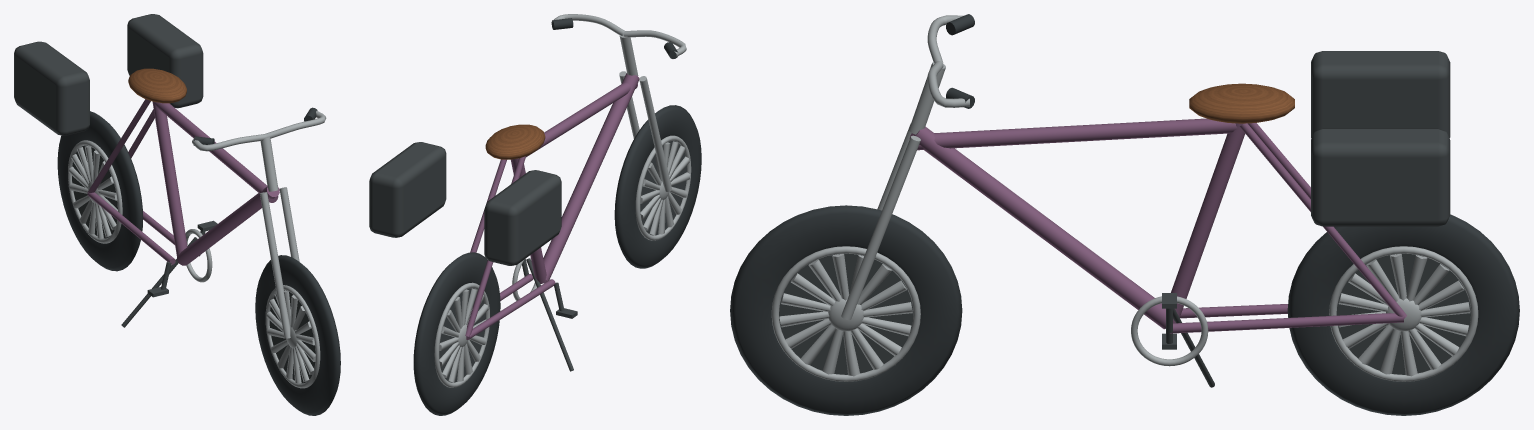
File: veh_bike_cargo-434548e76102.glb
3 renders of one model, left to right at view 1: azimuth 30°, elevation 25°; view 2: azimuth 150°, elevation 25°; view 3: azimuth 270°, elevation 25°, orthographic. The views are drawn at different scales.
Visible parts, largest first — view 1: surface_graphite (×3), surface_rubber (×2), surface_steel (×4), surface_#805d7b, surface_walnut; view 2: surface_graphite (×3), surface_rubber (×3), surface_steel (×3), surface_#805d7b, surface_walnut; view 3: surface_rubber (×2), surface_graphite (×3), surface_steel (×4), surface_#805d7b, surface_walnut.
Boxes of the visible parts, x1,y1,x2,y2 form: surface_graphite (×3): (14, 14, 315, 383); surface_rubber (×2): (57, 111, 340, 415); surface_steel (×4): (68, 111, 326, 388); surface_#805d7b: (87, 99, 279, 265); surface_walnut: (128, 68, 186, 103); surface_graphite (×3): (369, 141, 687, 382); surface_rubber (×3): (413, 18, 701, 415); surface_steel (×3): (434, 14, 691, 387); surface_#805d7b: (465, 73, 639, 339); surface_walnut: (485, 124, 545, 159); surface_rubber (×2): (730, 205, 1519, 415); surface_graphite (×3): (779, 51, 1470, 387); surface_steel (×4): (771, 15, 1478, 381); surface_#805d7b: (909, 118, 1406, 333); surface_walnut: (1189, 83, 1294, 123).
Size of the model in its own units: 0.616 by 1.04 by 2.04.
5 materials, 1 textured.
